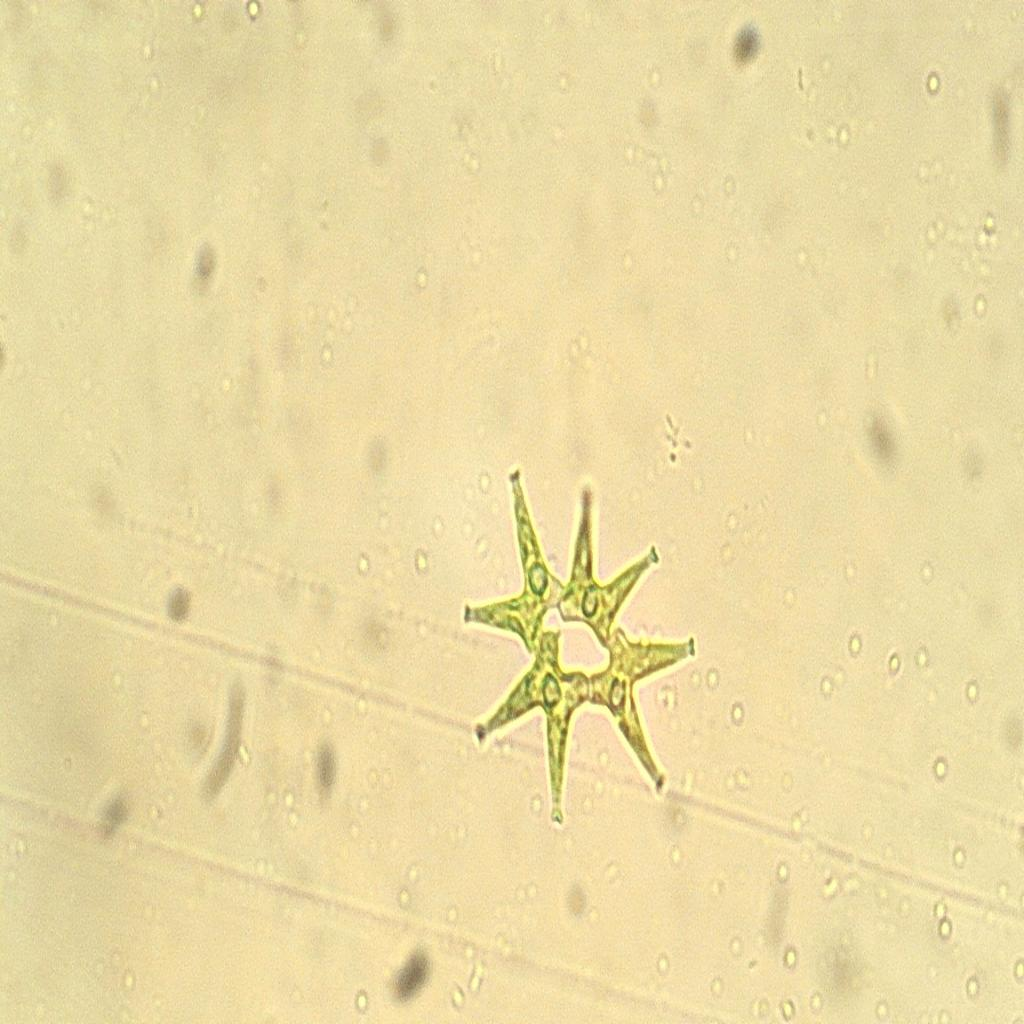Pediastrum_75FO: (448, 443, 708, 849)
